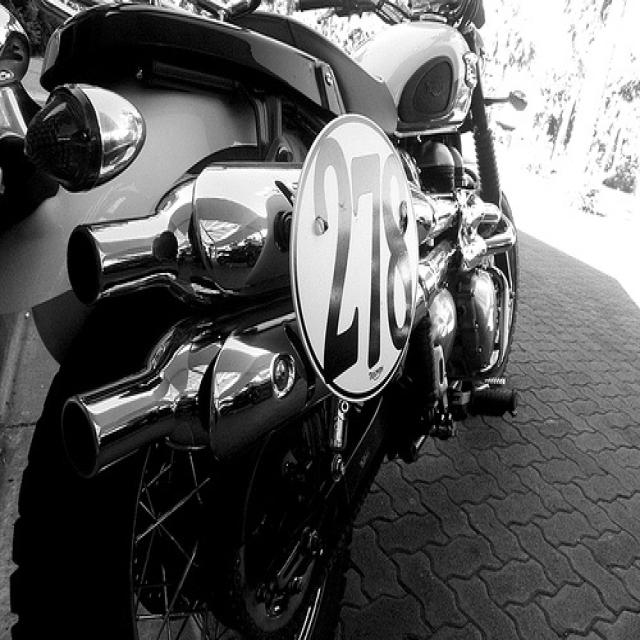motorbike: (9, 1, 517, 636)
